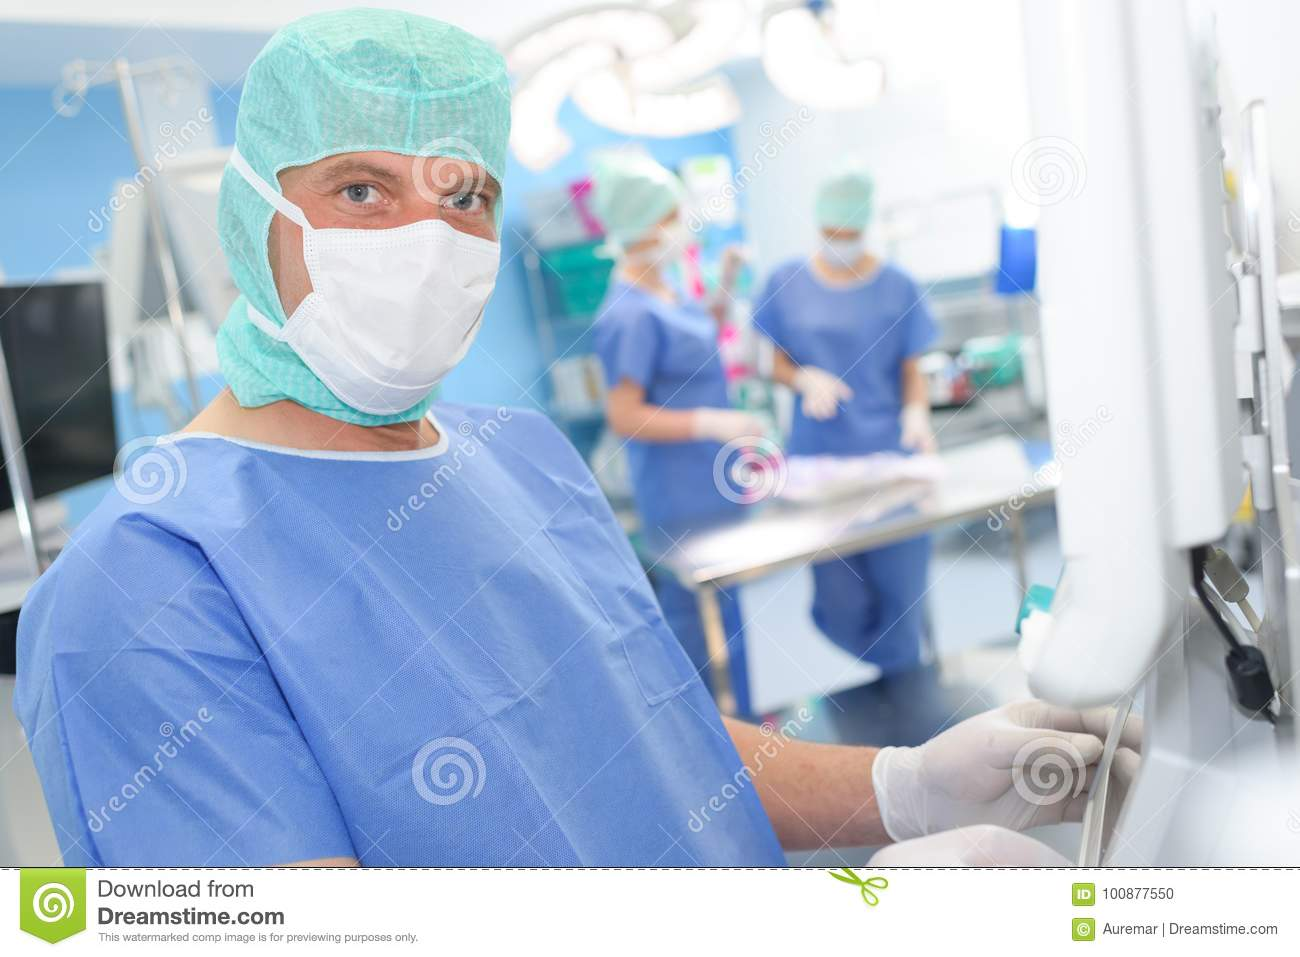mask: (285, 214, 508, 417)
